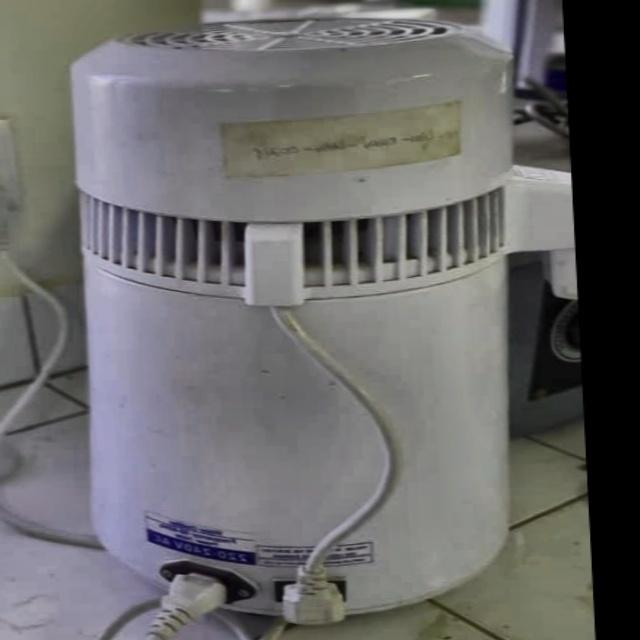Distilled Water Maker: (31, 6, 552, 640)
